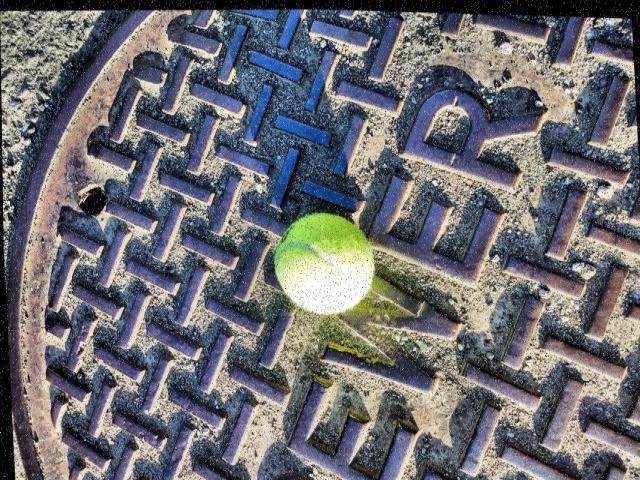tennis-ball: (274, 212, 375, 315)
